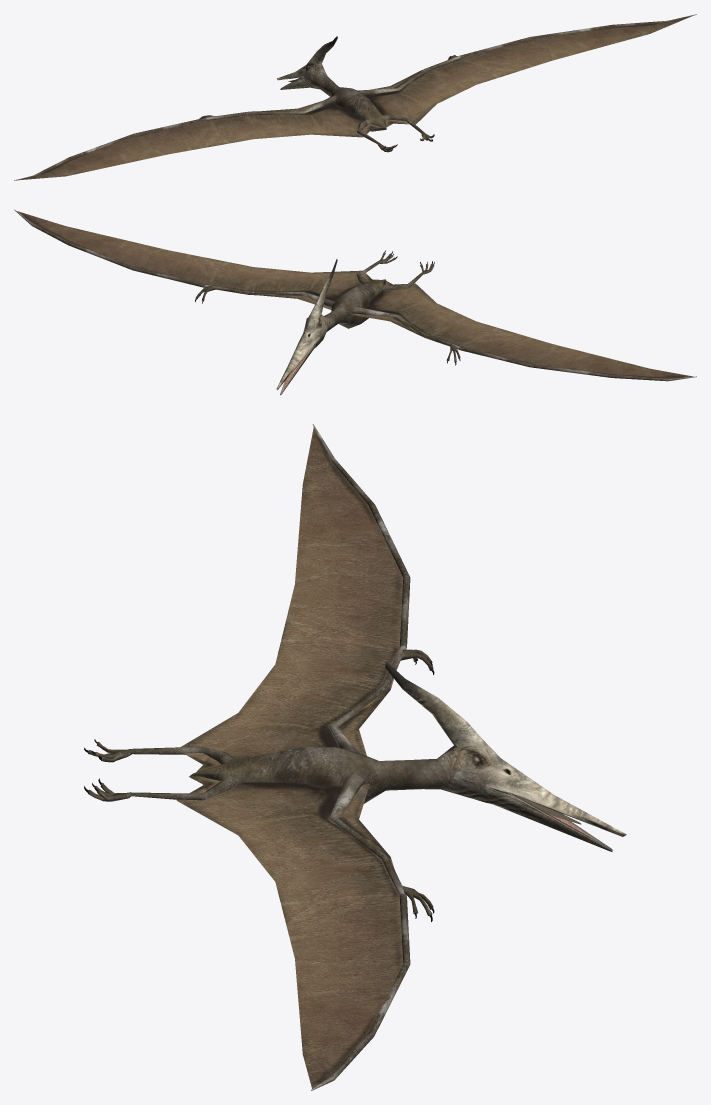
Rendered from ptero.dae.
3 renders of one model, top to bottom at view 1: azimuth 30°, elevation 25°; view 2: azimuth 150°, elevation 25°; view 3: azimuth 270°, elevation 25°, orthographic. The views are drawn at different scales.
Parts seen in each view (by area): view 1: corpo; view 2: corpo; view 3: corpo.
Boxes of the visible parts, x1,y1,x2,y2 form: corpo: (14, 14, 696, 180); corpo: (14, 209, 696, 395); corpo: (84, 424, 626, 1090).
Size of the model in its own units: 1891 by 253 by 651.
1 material, 1 textured.
